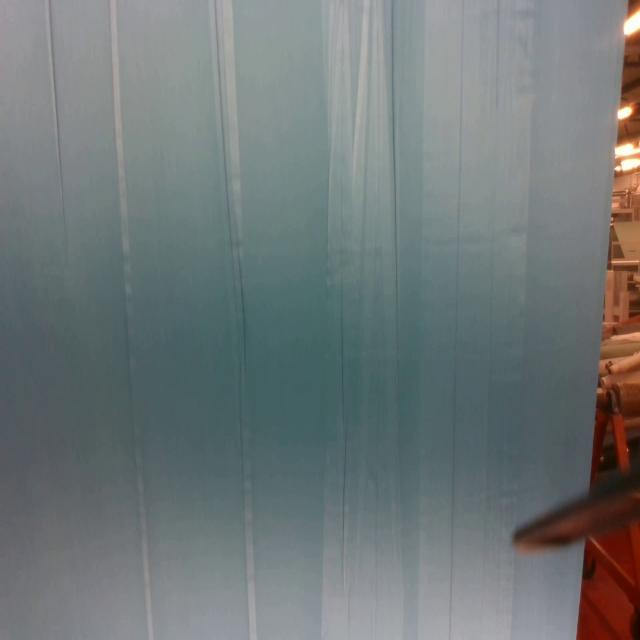crease: (420, 0, 513, 640), (320, 1, 406, 632), (209, 0, 258, 640), (109, 0, 152, 640), (42, 0, 68, 249)
